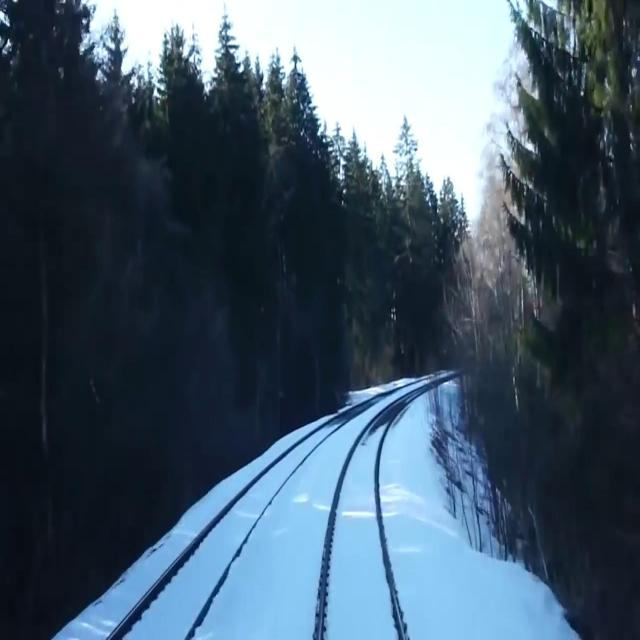rail-track: (114, 414, 348, 639), (322, 401, 401, 639)
